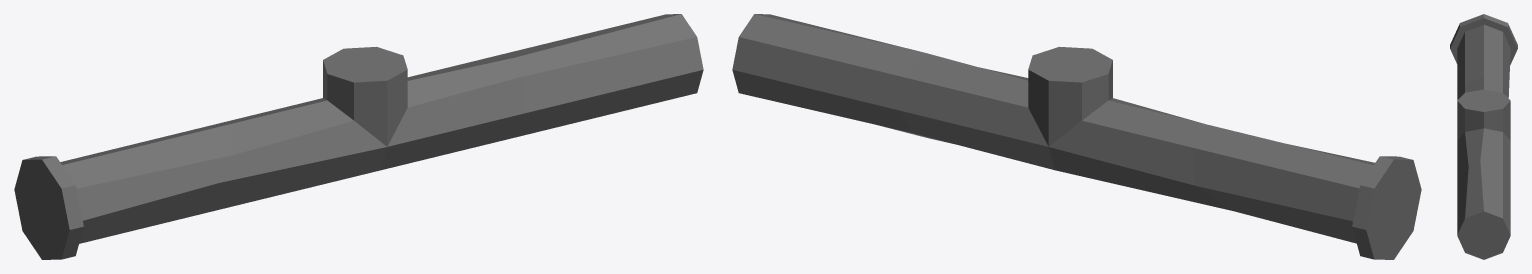
The model's file is SM_Gen_Bld_Pipe_T_01.glb.
The picture shows the model from 3 angles, left to right: view 1: azimuth 30°, elevation 25°; view 2: azimuth 150°, elevation 25°; view 3: azimuth 270°, elevation 25°; orthographic projection. The views are drawn at different scales.
Visible parts, largest first — view 1: SM_Gen_Bld_Pipe_T_01; view 2: SM_Gen_Bld_Pipe_T_01; view 3: SM_Gen_Bld_Pipe_T_01.
Part boxes in pixels (<box>): SM_Gen_Bld_Pipe_T_01: <box>14,14,703,259</box>; SM_Gen_Bld_Pipe_T_01: <box>732,14,1421,259</box>; SM_Gen_Bld_Pipe_T_01: <box>1450,14,1517,259</box>.
Size of the model in its own units: 2.53 by 0.4395 by 0.379.
Materials: 1 (1 with a texture image).
